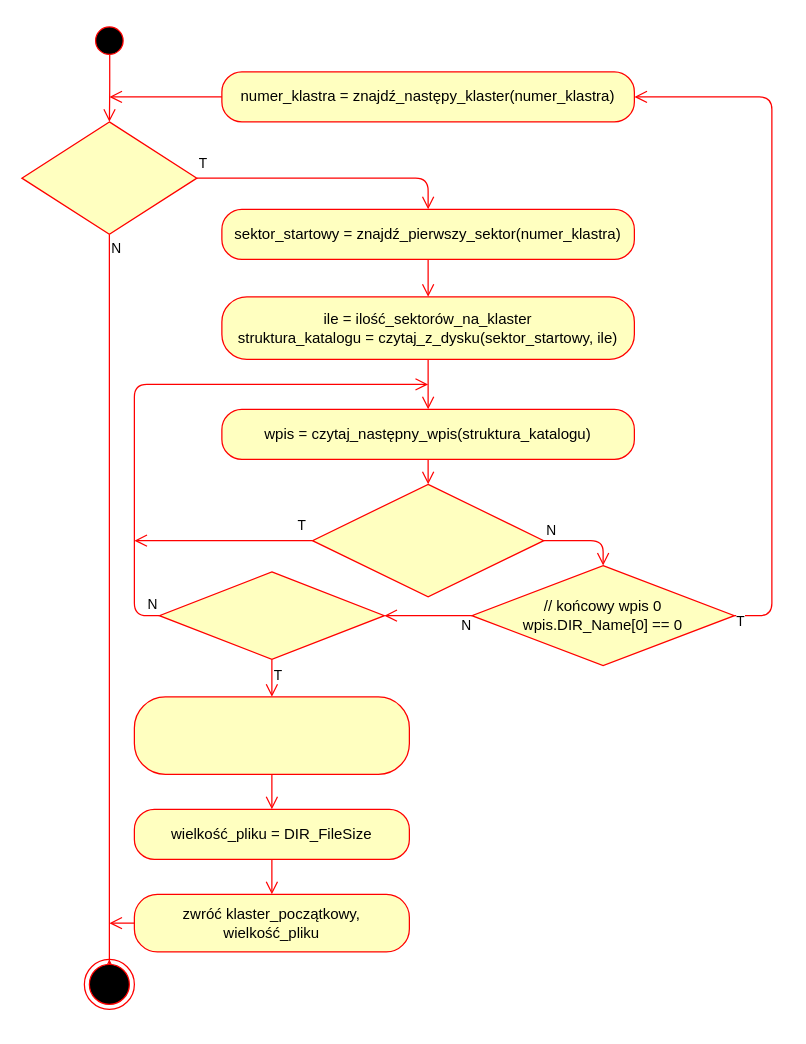
Image size: 806x1044. Some labels were removed from this diagram. Here are the shapes that lost their labels. From the top down, the centre of each, then its label:
At pixel 109 177: "numer_klastra < 0x0FFFFFF7".
At pixel 427 540: "// pusty wpis 0xE5 wpis.DIR_Name[0] == 0xE5".
At pixel 271 615: "wpis.DIR_Name == szukana_nazwa".
At pixel 271 735: "klaster_początkowy = wpis.DIR_FstClusHI << 16 | wpis.DIR_FsrClusLO".
